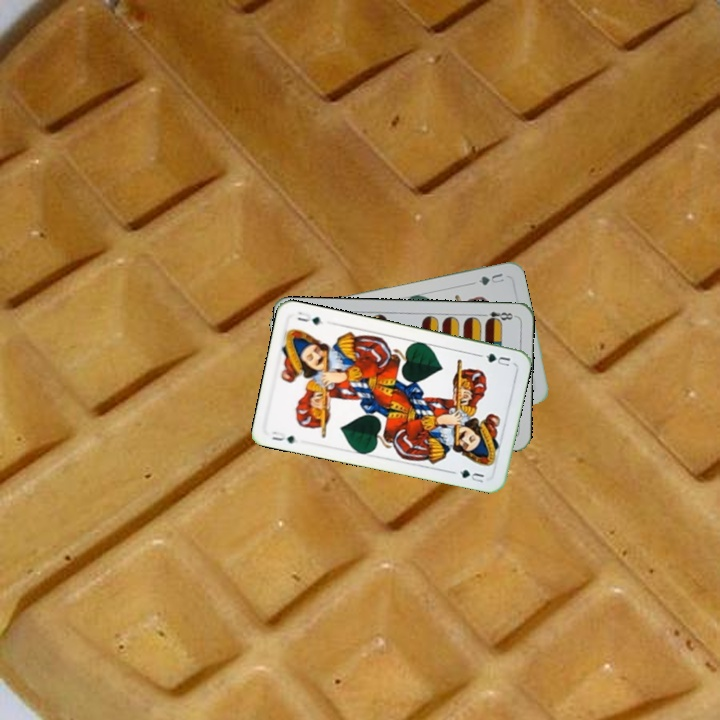E8: (477, 308, 518, 325)
GU: (480, 349, 513, 369), (474, 269, 507, 288), (268, 427, 297, 446)
